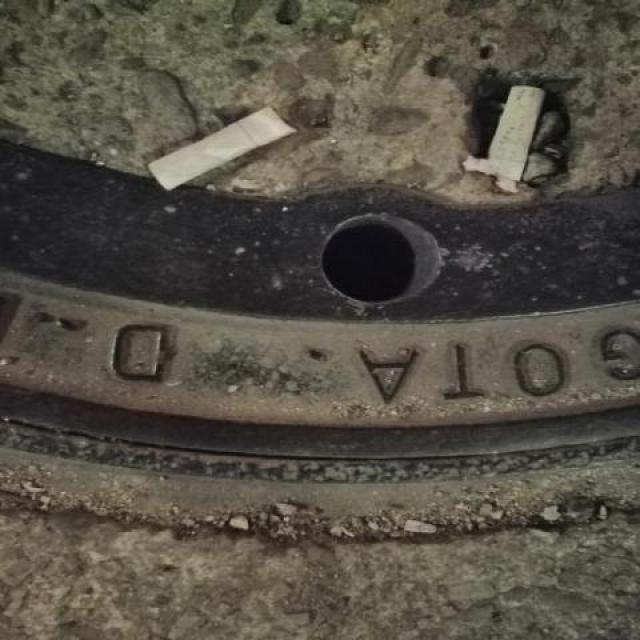non-organic waste: (140, 96, 303, 199), (484, 72, 548, 184)
